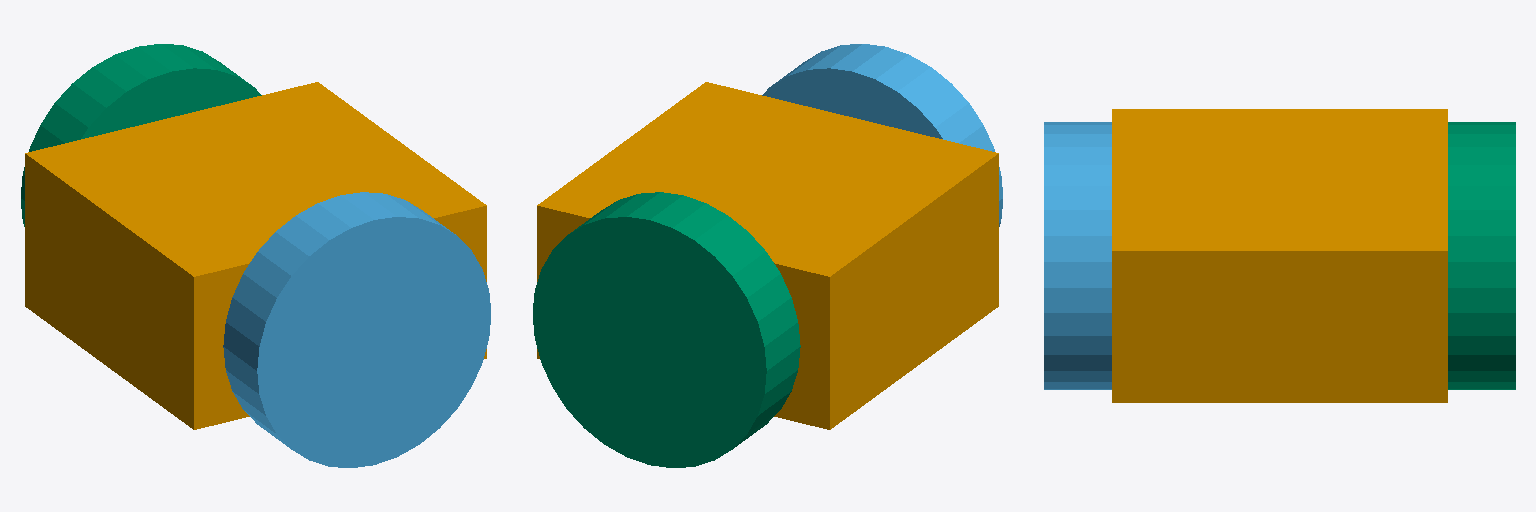
URDF robot description (test_robot2):
<?xml version='1.0'?>
<robot name="test_robot2">

  <!-- Base Link -->
  <link name="base_link">
    <visual>
      <origin xyz="0 0 0" rpy="0 0 0" />
      <geometry>
          <box size="0.5 0.5 0.25"/>
      </geometry>
    </visual>
  </link>

  <!-- Right Wheel -->
  <link name="right_wheel">
    <visual>
      <origin xyz="0 0 0" rpy="1.570795 0 0" />
      <geometry>
          <cylinder length="0.1" radius="0.2" />
      </geometry>
    </visual>
  </link>
  <joint name="joint_right_wheel" type="continuous">
    <parent link="base_link"/>
    <child link="right_wheel"/>
    <origin xyz="0 -0.30 0" rpy="0 0 0" /> 
    <axis xyz="0 1 0" />
  </joint>

  <!-- Left Wheel -->
  <link name="left_wheel">
    <visual>
      <origin xyz="0 0 0" rpy="1.570795 0 0" />
      <geometry>
          <cylinder length="0.1" radius="0.2" />
      </geometry>
    </visual>
  </link>
  <joint name="joint_left_wheel" type="continuous">
    <parent link="base_link"/>
    <child link="left_wheel"/>
    <origin xyz="0 0.30 0" rpy="0 0 0" /> 
    <axis xyz="0 1 0" />
  </joint>

</robot>

--- Render facts (derived) ---
Views: 3 orthographic renders of the robot side by side, from view 1: azimuth 30°, elevation 25°; view 2: azimuth 150°, elevation 25°; view 3: azimuth 270°, elevation 25°.
Model test_robot2 with 3 links and 2 joints (2 continuous), rooted at base_link, posed all joints at 0.
Visible links, largest first — view 1: base_link, right_wheel, left_wheel; view 2: base_link, left_wheel, right_wheel; view 3: base_link, right_wheel, left_wheel.
Boxes of the visible links, x1,y1,x2,y2 form: base_link: (25, 82, 486, 429); right_wheel: (223, 192, 490, 467); left_wheel: (21, 44, 261, 226); base_link: (537, 82, 998, 429); left_wheel: (533, 192, 800, 467); right_wheel: (762, 44, 1002, 226); base_link: (1112, 109, 1447, 402); right_wheel: (1044, 122, 1111, 389); left_wheel: (1448, 122, 1515, 389).
Bounding box of the posed robot: 0.5 × 0.7 × 0.4 m (x, y, z).
Geometry: primitives only (box / cylinder / sphere), no mesh files.